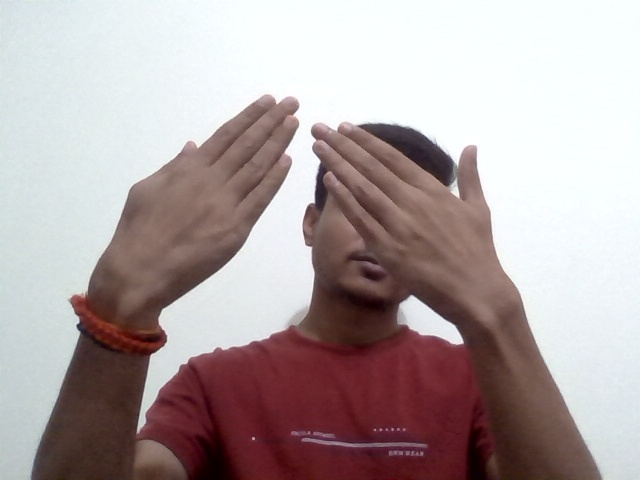Thank_You: (67, 75, 545, 384)
